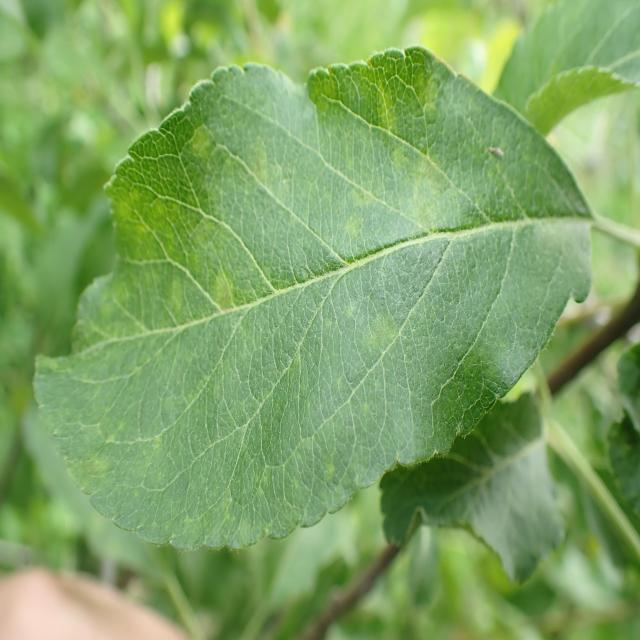scab: (68, 94, 485, 512)
